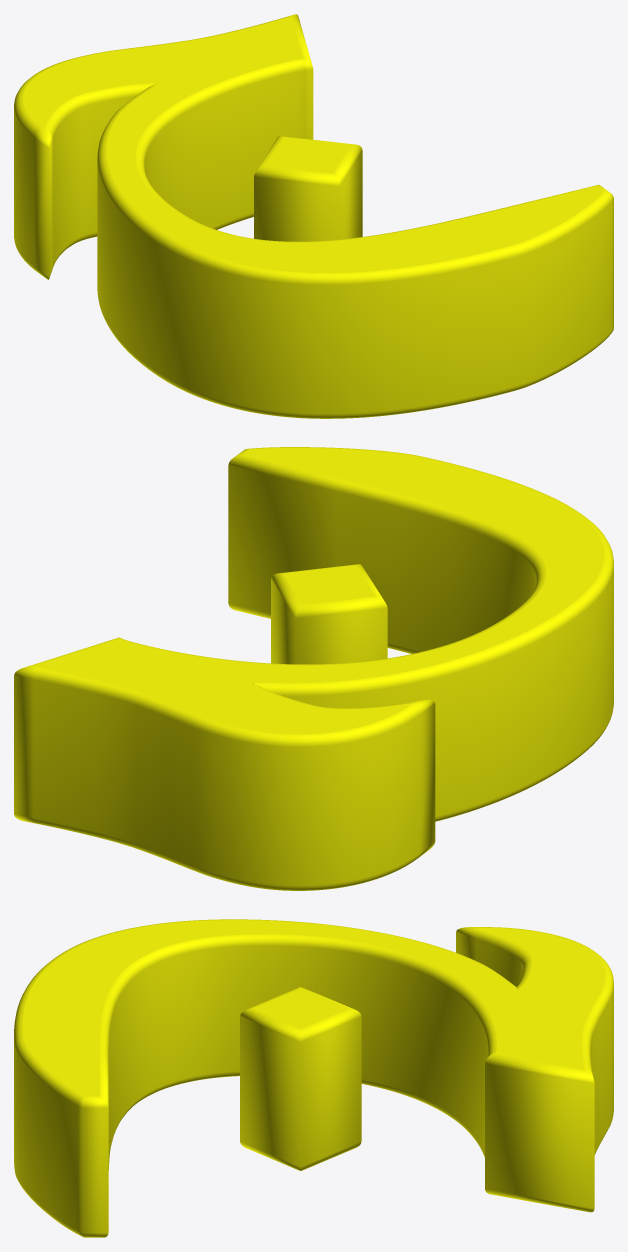
3 renders of one model, top to bottom at view 1: azimuth 30°, elevation 25°; view 2: azimuth 150°, elevation 25°; view 3: azimuth 270°, elevation 25°, orthographic. The views are drawn at different scales.
Parts seen in each view (by area): view 1: Text.133; view 2: Text.133; view 3: Text.133.
Boxes of the visible parts, x1,y1,x2,y2 form: Text.133: (14,14,613,418); Text.133: (14,447,613,890); Text.133: (14,919,613,1237).
Size of the model in its own units: 50.45 by 18 by 69.68.
